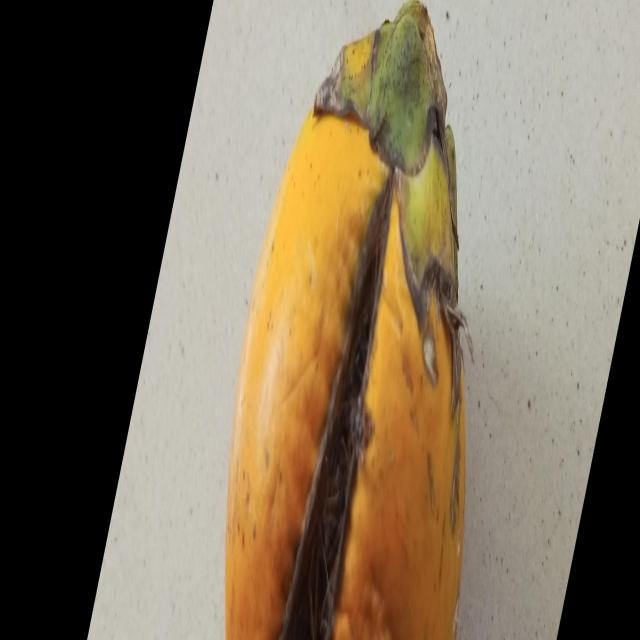damaged: (225, 0, 472, 640)
